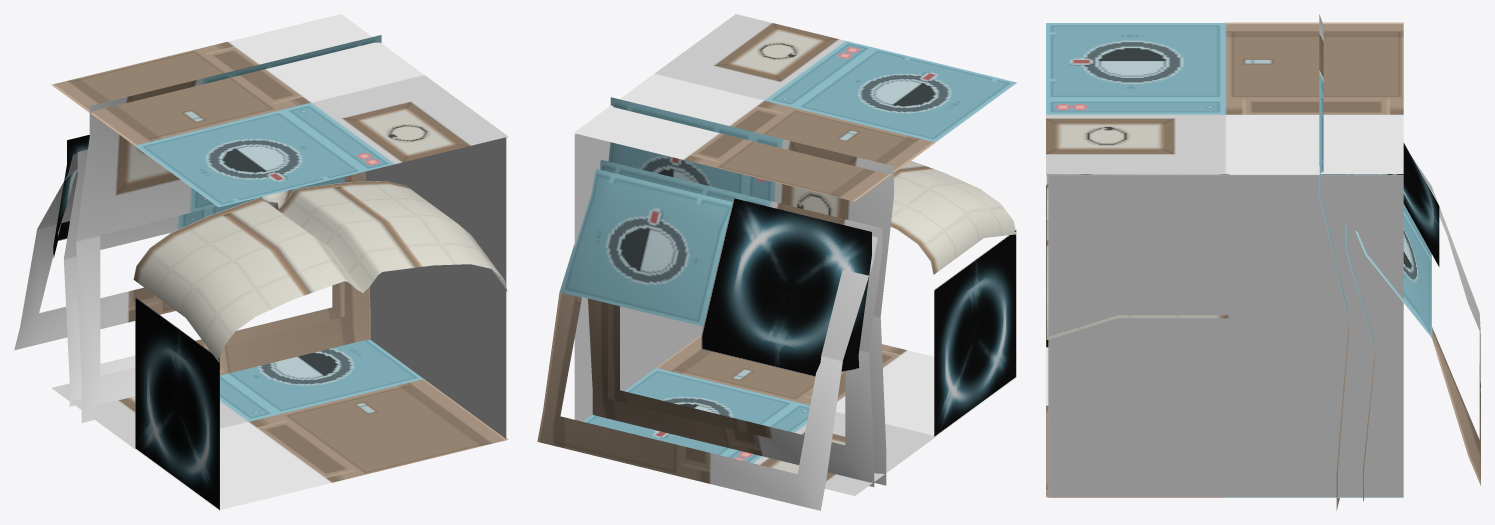
File: mouth.fbx
3 views of the same model, side by side, from view 1: azimuth 30°, elevation 25°; view 2: azimuth 150°, elevation 25°; view 3: azimuth 270°, elevation 25° (orthographic). The views are drawn at different scales.
Parts seen in each view (by area): view 1: Plane.5, Plane.8, Extrude NURBS, Plane.7, Plane.4, Plane.6, Plane.3, Plane, Plane.2; view 2: Plane.5, Plane, Plane.2, Plane.8, Plane.4, Plane.3, Plane.6, Extrude NURBS, Plane.7; view 3: Plane.7, Plane.5, Plane, Plane.2, Plane.4, Extrude NURBS, Plane.8, Plane.3.
Boxes of the visible parts, <box> form: Plane.5: <box>51,14,508,206</box>; Plane.8: <box>52,340,508,510</box>; Extrude NURBS: <box>133,181,507,362</box>; Plane.7: <box>365,137,507,438</box>; Plane.4: <box>76,35,381,422</box>; Plane.6: <box>135,297,219,510</box>; Plane.3: <box>63,149,344,406</box>; Plane: <box>14,153,175,350</box>; Plane.2: <box>53,135,89,258</box>; Plane.5: <box>574,14,1016,201</box>; Plane: <box>537,169,877,510</box>; Plane.2: <box>701,198,871,376</box>; Plane.8: <box>583,335,1017,495</box>; Plane.4: <box>608,97,893,485</box>; Plane.3: <box>588,159,882,486</box>; Plane.6: <box>934,229,1016,436</box>; Extrude NURBS: <box>890,161,1016,274</box>; Plane.7: <box>574,134,703,421</box>; Plane.7: <box>1046,174,1403,497</box>; Plane.5: <box>1046,22,1403,173</box>; Plane: <box>1355,156,1480,485</box>; Plane.2: <box>1387,143,1439,266</box>; Plane.4: <box>1319,14,1348,510</box>; Extrude NURBS: <box>1046,174,1229,339</box>; Plane.8: <box>1046,347,1403,497</box>; Plane.3: <box>1345,174,1374,501</box>.
Bounding box in the file's own units: 2508 × 2653 × 3030.
Materials: 1 (1 with a texture image).
